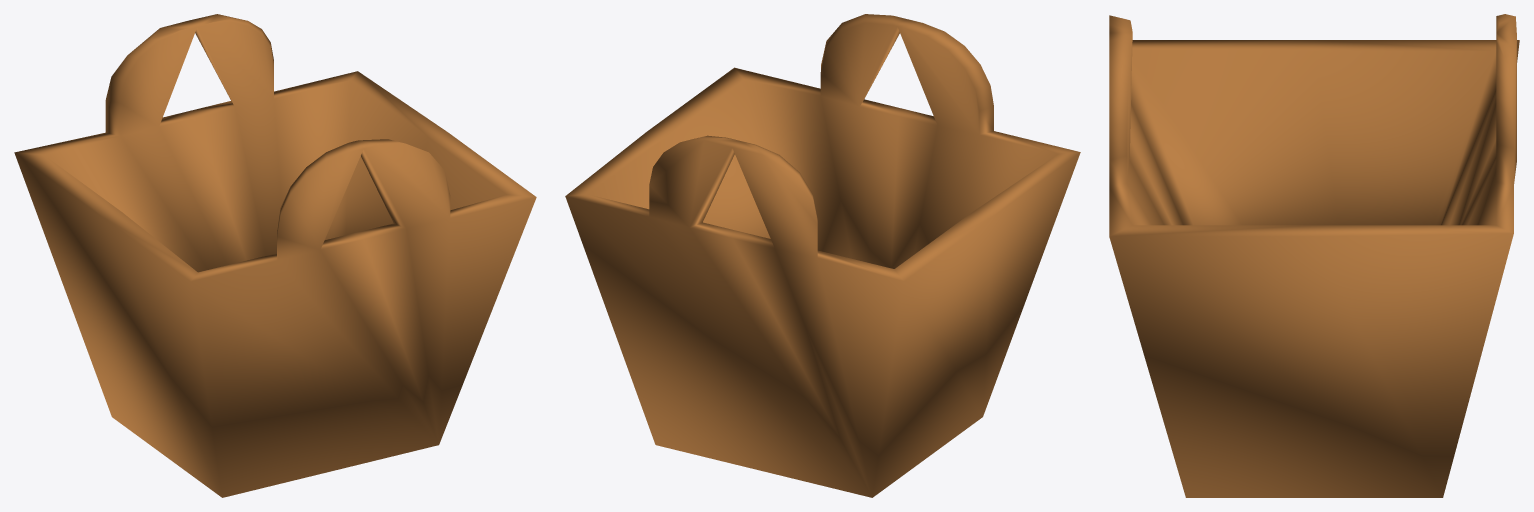
File: Panier.fbx
The picture shows the model from 3 angles, left to right: view 1: azimuth 30°, elevation 25°; view 2: azimuth 150°, elevation 25°; view 3: azimuth 270°, elevation 25°; orthographic projection. The views are drawn at different scales.
Parts seen in each view (by area): view 1: Panier; view 2: Panier; view 3: Panier.
Boxes of the visible parts, <box> form: Panier: <box>14,14,536,497</box>; Panier: <box>565,14,1080,497</box>; Panier: <box>1109,14,1519,497</box>.
Bounding box in the file's own units: 226 × 216 × 199.
